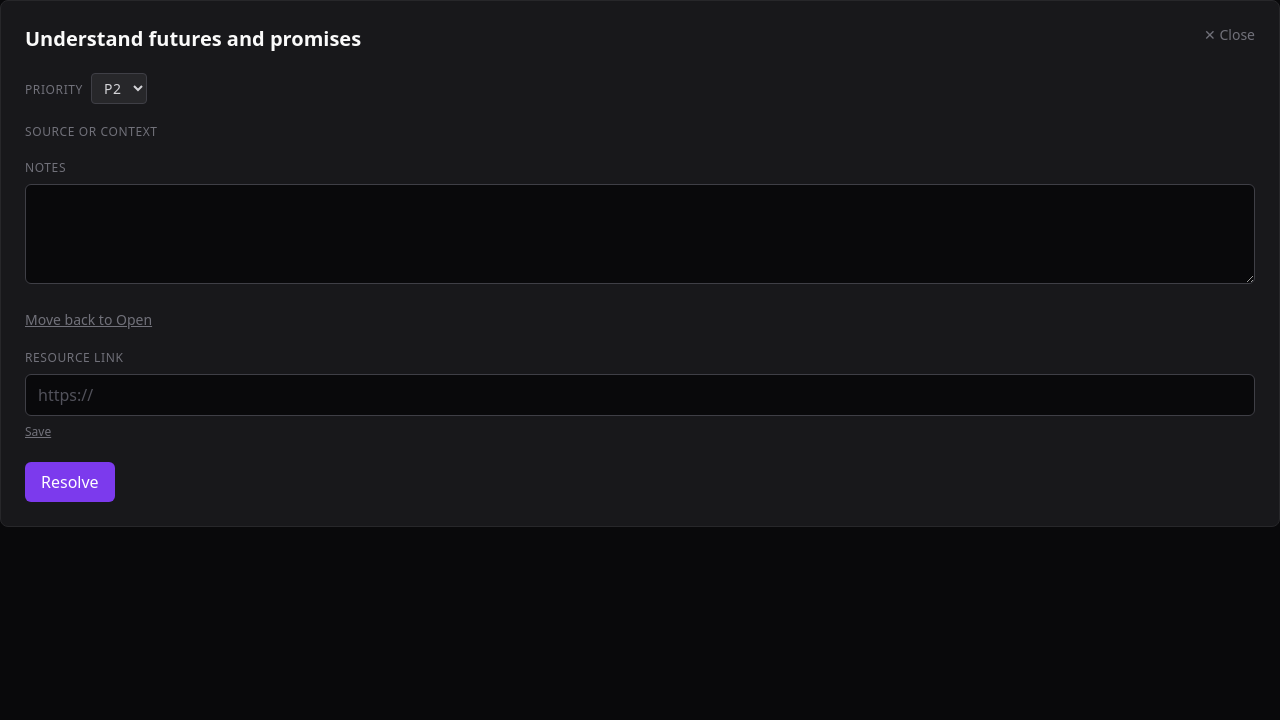
Scenario: US-012: ItemDetail — resource link field › shows a validation error for invalid URL input (bare domain)
The image size is (1280, 720).
In the field labelled "Resource link": (640, 395) x1=25 y1=374 x2=1255 y2=416, type "example.com"
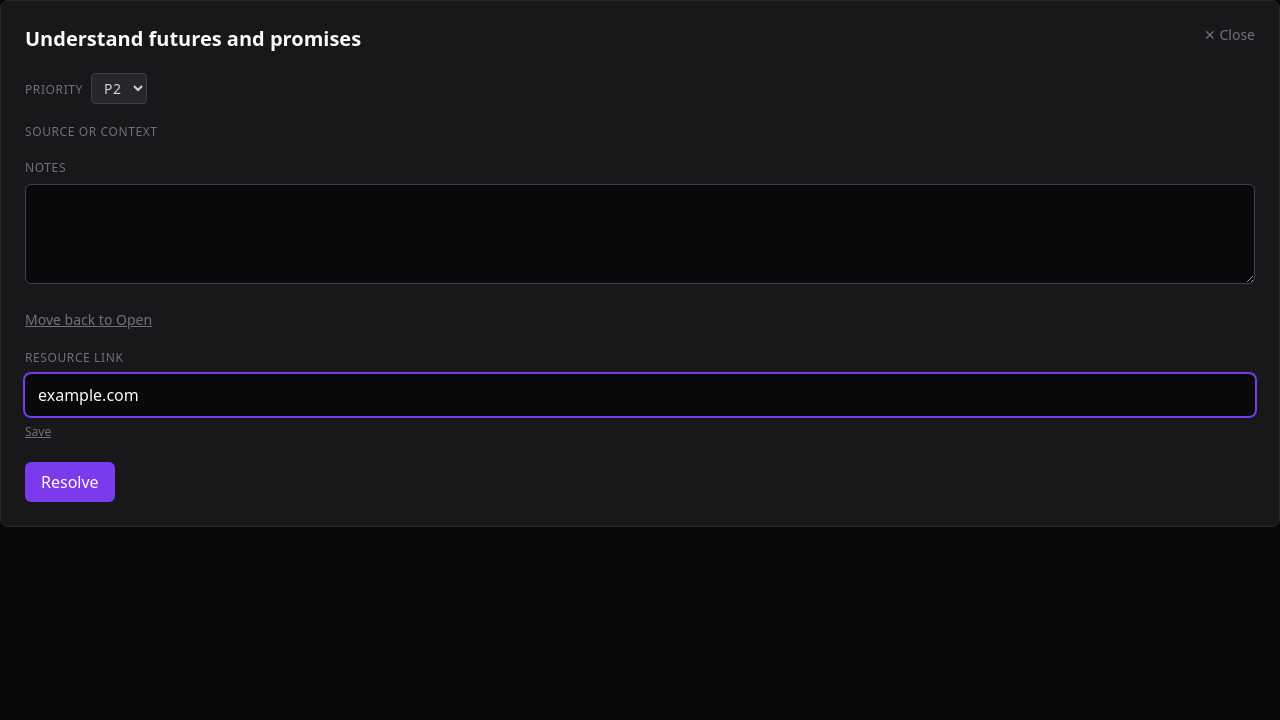
Click the button "Save": (38, 432) x1=25 y1=424 x2=51 y2=440
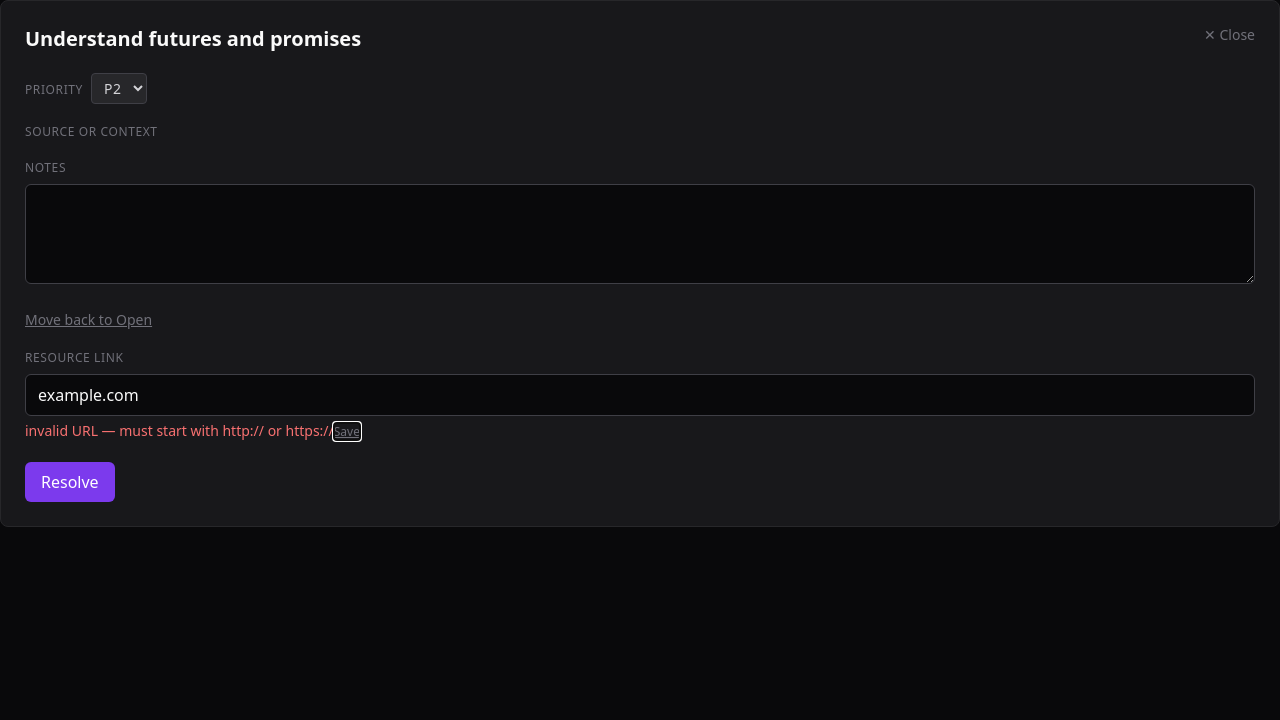
Expected: the text "invalid URL — must start with http:// or https://" is shown, x1=25 y1=421 x2=334 y2=440
